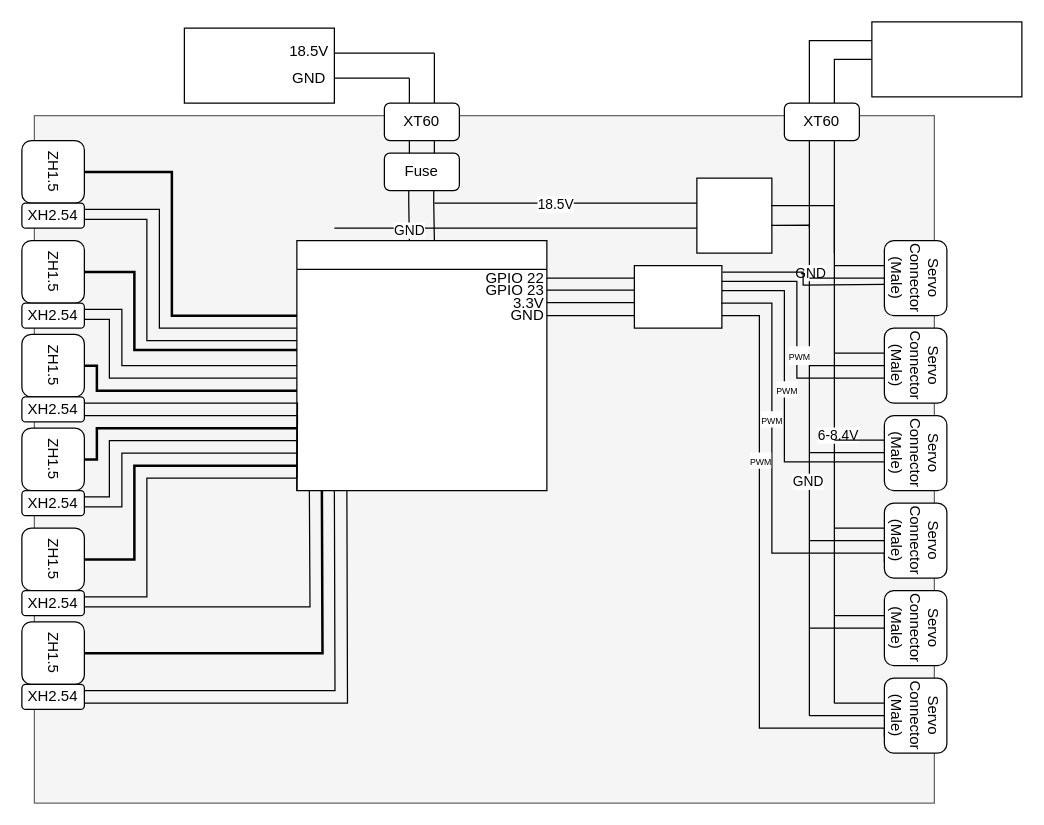
Some shapes in this 1044 by 825 pixel diagram are drawn without their labels. The box of each missing label's shape, as (x1, y1, x2, y2) in pixels:
DC-DC Converter: (696, 177, 772, 253)
DDSM: (296, 239, 547, 491)
LiPo 2s: (871, 21, 1022, 97)
LiPo 5s: (183, 27, 334, 103)
PCA9865: (633, 264, 722, 328)
